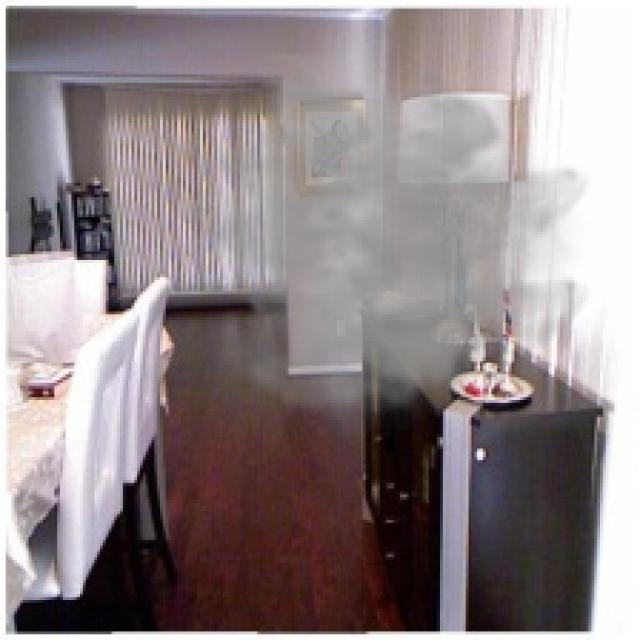Smoke: (182, 54, 594, 452)
